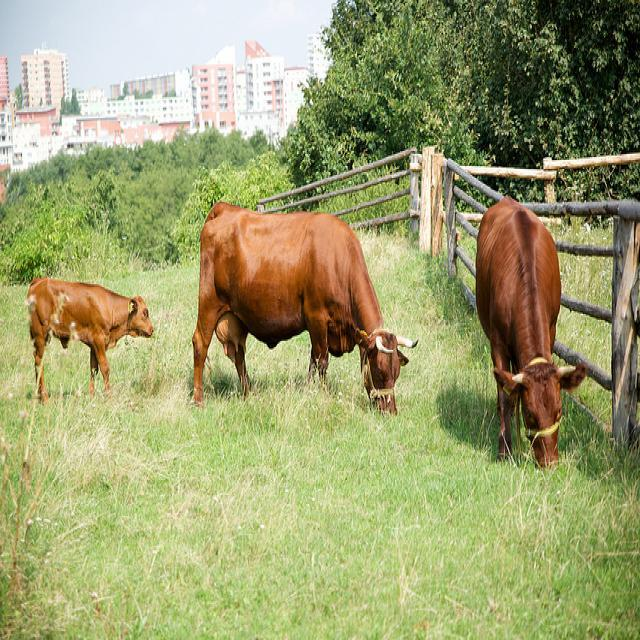cow: (186, 202, 416, 411), (473, 190, 588, 475), (25, 280, 156, 401)
